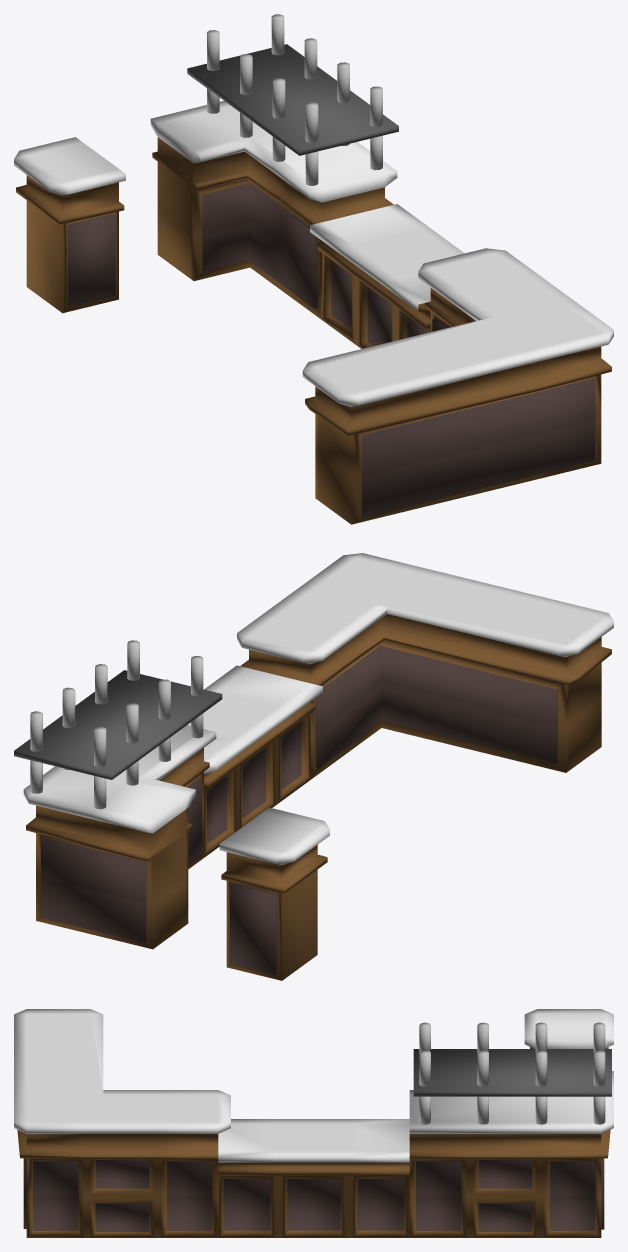
The model's file is RestaurantCounter.fbx.
3 views of the same model, one above another, from view 1: azimuth 30°, elevation 25°; view 2: azimuth 150°, elevation 25°; view 3: azimuth 270°, elevation 25° (orthographic). The views are drawn at different scales.
Visible parts, largest first — view 1: RestaurantCounter; view 2: RestaurantCounter; view 3: RestaurantCounter.
Part boxes in pixels (bbox=[...]): RestaurantCounter: bbox=[14, 14, 613, 524]; RestaurantCounter: bbox=[14, 553, 613, 980]; RestaurantCounter: bbox=[14, 1009, 613, 1237].
Size of the model in its own units: 446 by 320 by 940.
